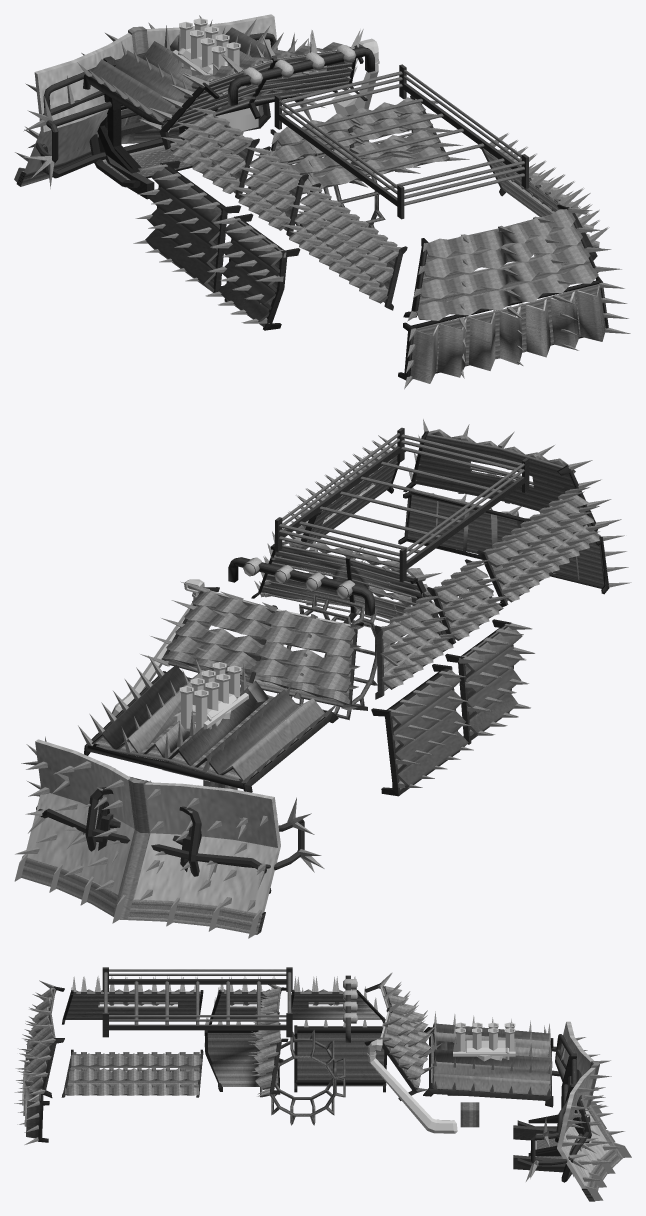
Rendered from PickUpArmor.fbx.
3 views of the same model, one above another, from view 1: azimuth 30°, elevation 25°; view 2: azimuth 150°, elevation 25°; view 3: azimuth 270°, elevation 25° (orthographic). The views are drawn at different scales.
Visible parts, largest first — view 1: windowreinforcedrear, roofrack, plow, trunkreinforcedrear, windowreinforcedtruckrear, doorfrontreinforcedleft, windowreinforcedrear_vve, hoodreinforcedfront, windowlightspikedrear_vve, doorrearreinforcedleft, hoodreinforcedfrontscoop, windowheavyspikedfront (+36 smaller); view 2: plow, windowreinforcedfront, roofrack, plow_spiked, hoodreinforcedfront, hoodreinforcedfrontscoop, windowheavyrear, doorfrontreinforcedleft, windowreinforcedrear_vve, windowheavyspikedtruckrear, trunkheavyspikedrear, doorrearreinforcedleft (+32 smaller); view 3: roofrack, hoodreinforcedfront, plow, windowheavyrear_vve, windowreinforcedrear_vve, hoodreinforcedfrontscoop, doorfrontheavyleft, doorrearheavyleft, windowreinforcedfront, chaintires, plow_spiked, windowfrontheavyleft (+27 smaller).
Part boxes in pixels (box(x1,y1,x2,y2)): windowreinforcedrear: box(417, 209, 598, 320); roofrack: box(274, 64, 528, 219); plow: box(14, 14, 277, 186); trunkreinforcedrear: box(410, 279, 605, 383); windowreinforcedtruckrear: box(274, 97, 449, 194); doorfrontreinforcedleft: box(145, 165, 225, 292); windowreinforcedrear_vve: box(289, 149, 600, 303); hoodreinforcedfront: box(91, 27, 313, 123); windowlightspikedrear_vve: box(281, 134, 609, 294); doorrearreinforcedleft: box(218, 218, 284, 326); hoodreinforcedfrontscoop: box(91, 27, 311, 123); windowheavyspikedfront: box(139, 29, 367, 149); plow: box(14, 739, 280, 938); windowreinforcedfront: box(161, 590, 355, 704); roofrack: box(275, 427, 529, 582); plow_spiked: box(15, 742, 277, 912); hoodreinforcedfront: box(88, 666, 326, 783); hoodreinforcedfrontscoop: box(87, 665, 330, 788); windowheavyrear: box(403, 431, 597, 531); doorfrontreinforcedleft: box(384, 668, 468, 794); windowreinforcedrear_vve: box(289, 453, 600, 602); windowheavyspikedtruckrear: box(251, 542, 469, 640); trunkheavyspikedrear: box(406, 483, 631, 587); doorrearreinforcedleft: box(461, 624, 522, 740); roofrack: box(102, 967, 292, 1037); hoodreinforcedfront: box(429, 1023, 551, 1095); plow: box(530, 1021, 631, 1201); windowheavyrear_vve: box(61, 990, 203, 1097); windowreinforcedrear_vve: box(65, 989, 201, 1095); hoodreinforcedfrontscoop: box(429, 1023, 550, 1095); doorfrontheavyleft: box(294, 1025, 387, 1092); doorrearheavyleft: box(204, 1030, 279, 1091); windowreinforcedfront: box(384, 986, 431, 1089); chaintires: box(260, 1030, 345, 1125); plow_spiked: box(555, 1037, 624, 1185); windowfrontheavyleft: box(291, 990, 385, 1022).
Size of the model in its own units: 275 by 197 by 658.
